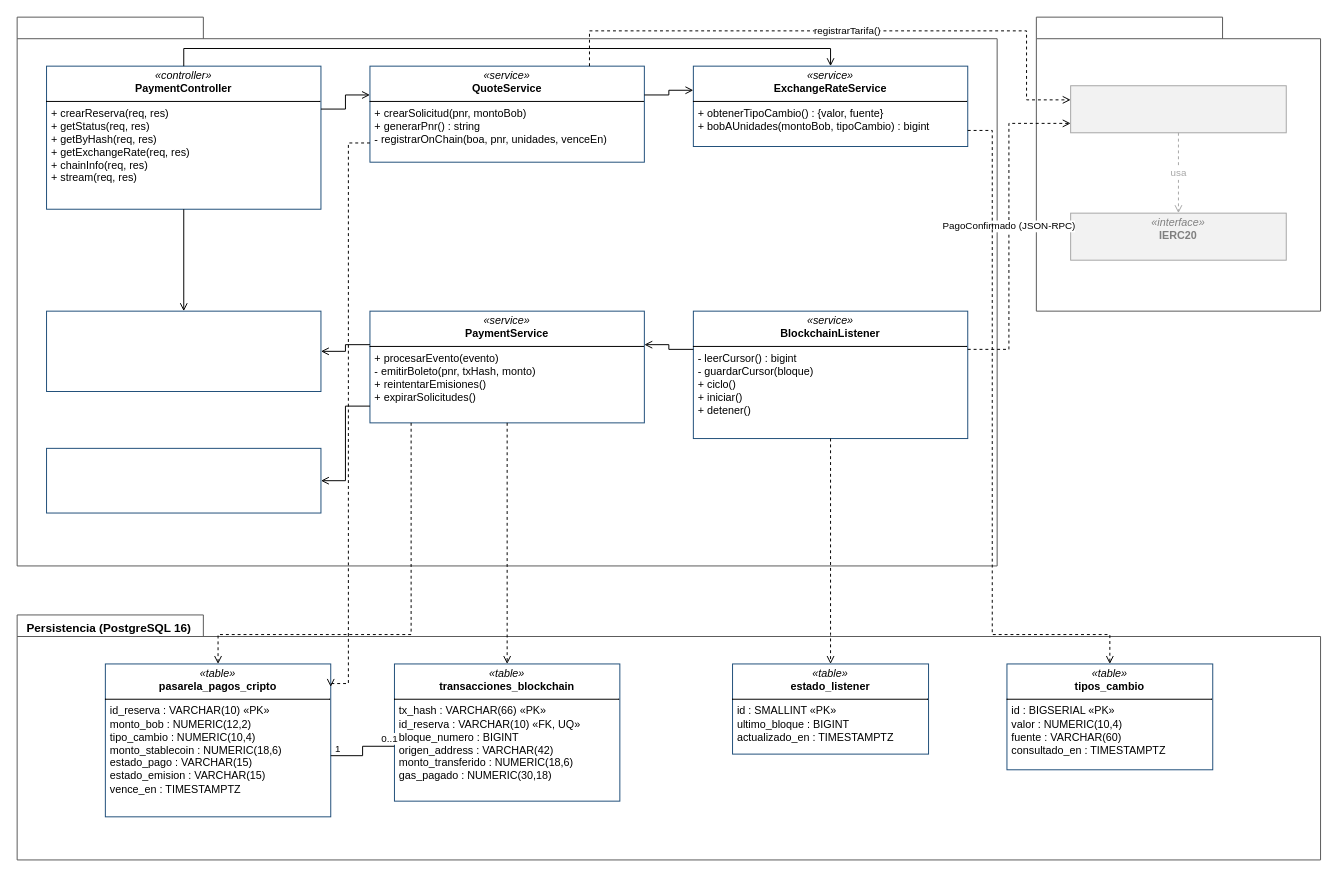
Image size: 1338x877. Some labels were removed from this diagram. The shapes that lost their labels are listed below. From the top down, each one's box as (x1, y1, x2, y2) in pixels, then its label:
(1070, 85, 1286, 133): «contract» BoAPayments
(1035, 16, 1321, 311): On-chain (incremento 3)
(16, 16, 997, 566): Off-chain: servidor intermedio (Node.js / Express)
(46, 310, 321, 392): «SSE» Notifier + suscribir(req, res, pnr, estadoActual) + publicar(pnr, datos)
(46, 447, 321, 513): «service» NucleoReservas + notificarEmision(pnr, txHash, monto)
